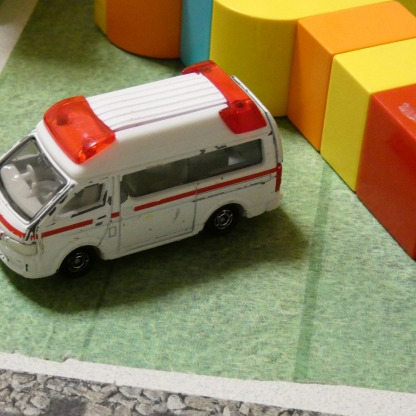car: (0, 59, 282, 279)
